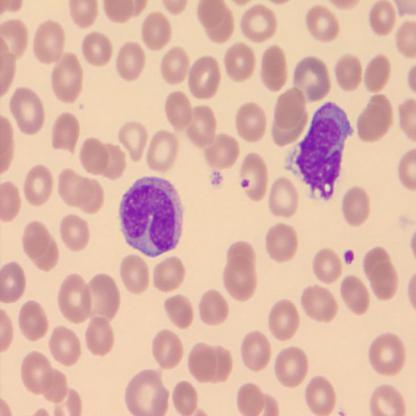Monocyte: (282, 98, 356, 201), (117, 174, 185, 260)
